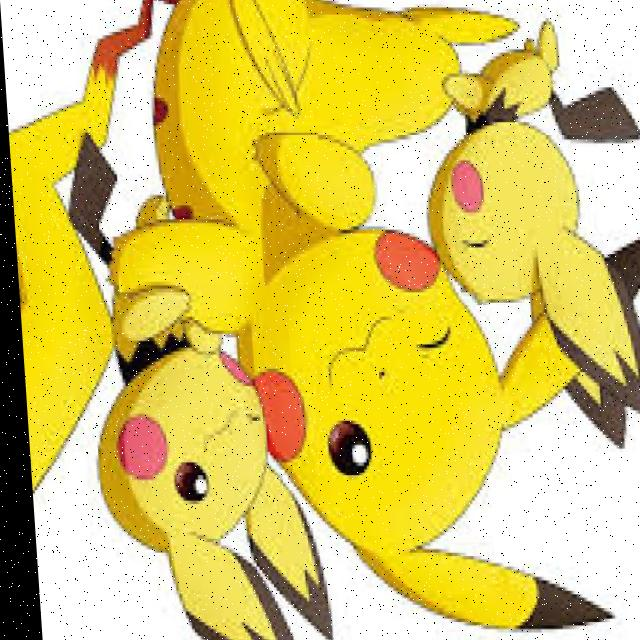pichu: (431, 0, 640, 373), (94, 326, 281, 640)
